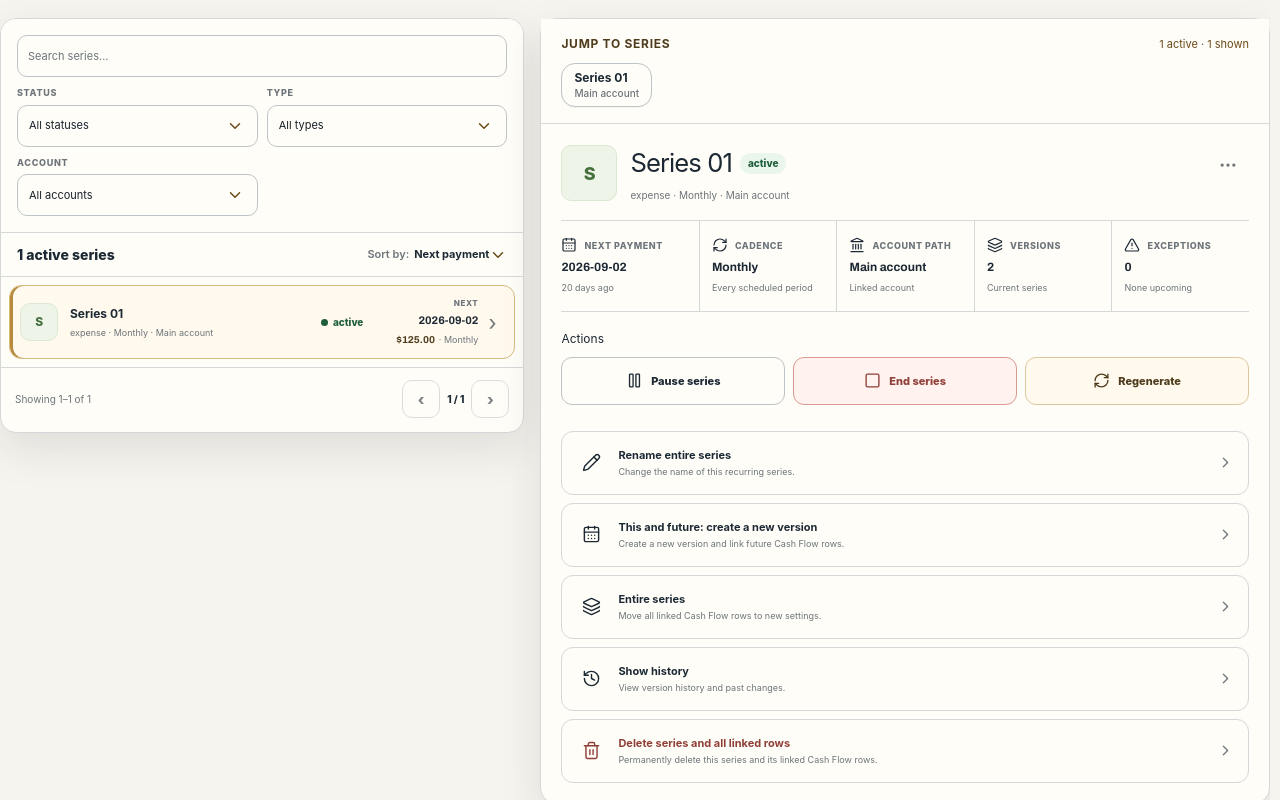
RecurringCashFlowManager derived and keyed state › closes a version-delete dialog and promotes the action result
Click the button with class "recurring-detail-option" that starts with "Show history" at x=654, y=671, box [561,647,1249,711]
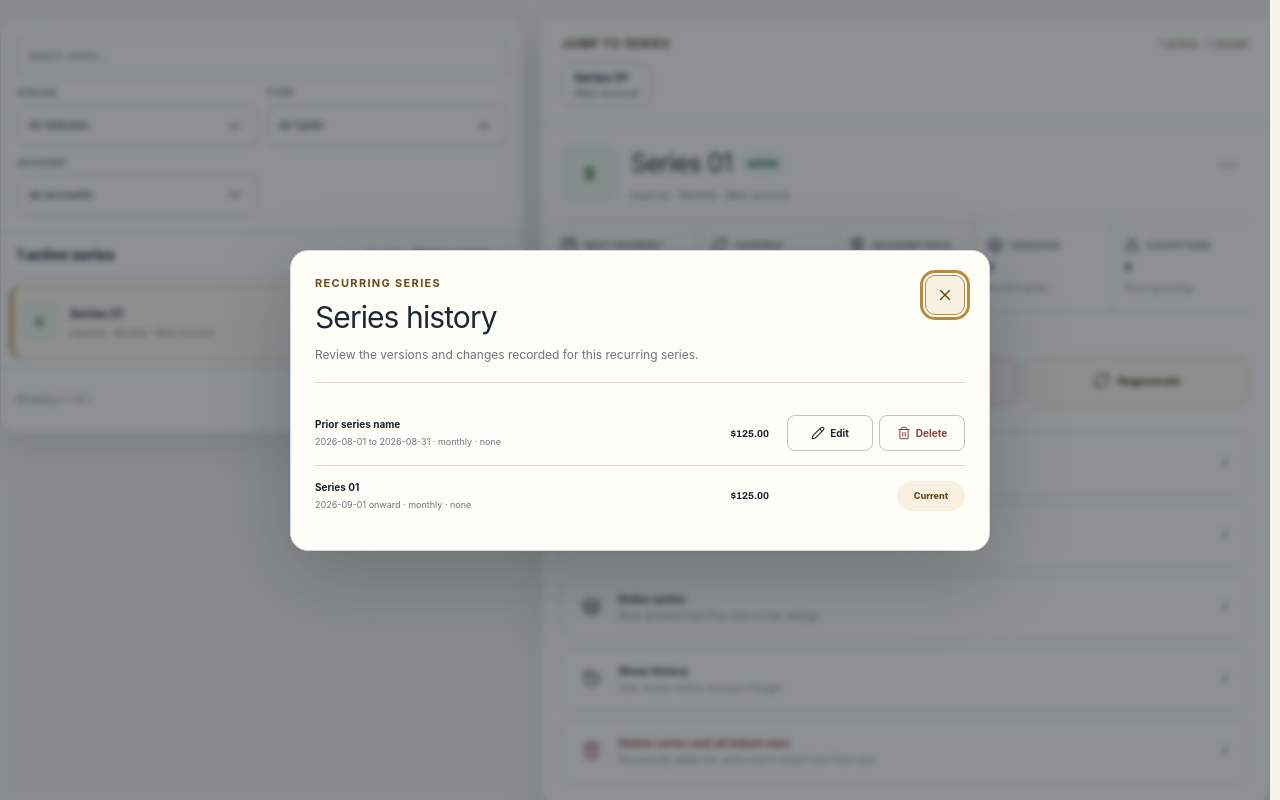
Click the button with class "is-danger" showing "Delete" at x=922, y=433, box [879,415,965,451]
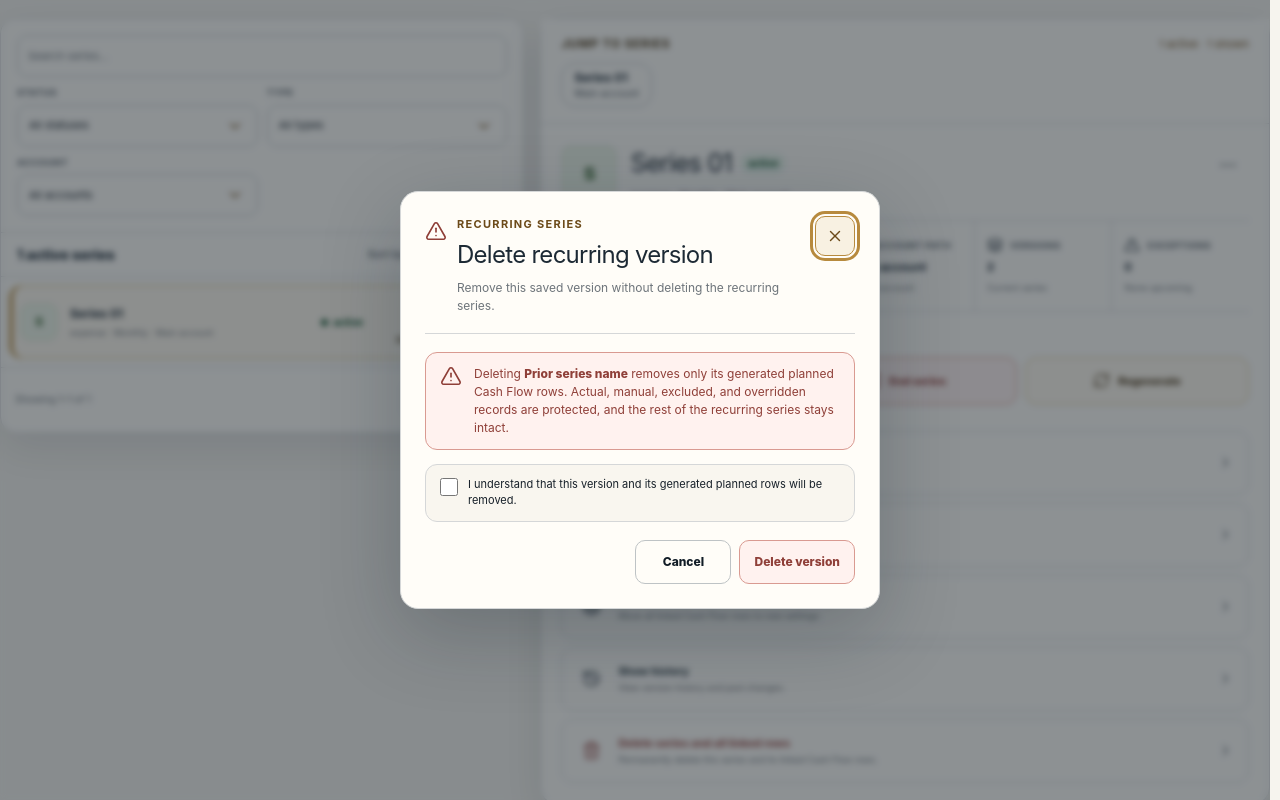
Check: the dialog is shown, box [400,191,880,609]
Click the checkbox named "confirm" at x=449, y=487, box [440,478,458,496]
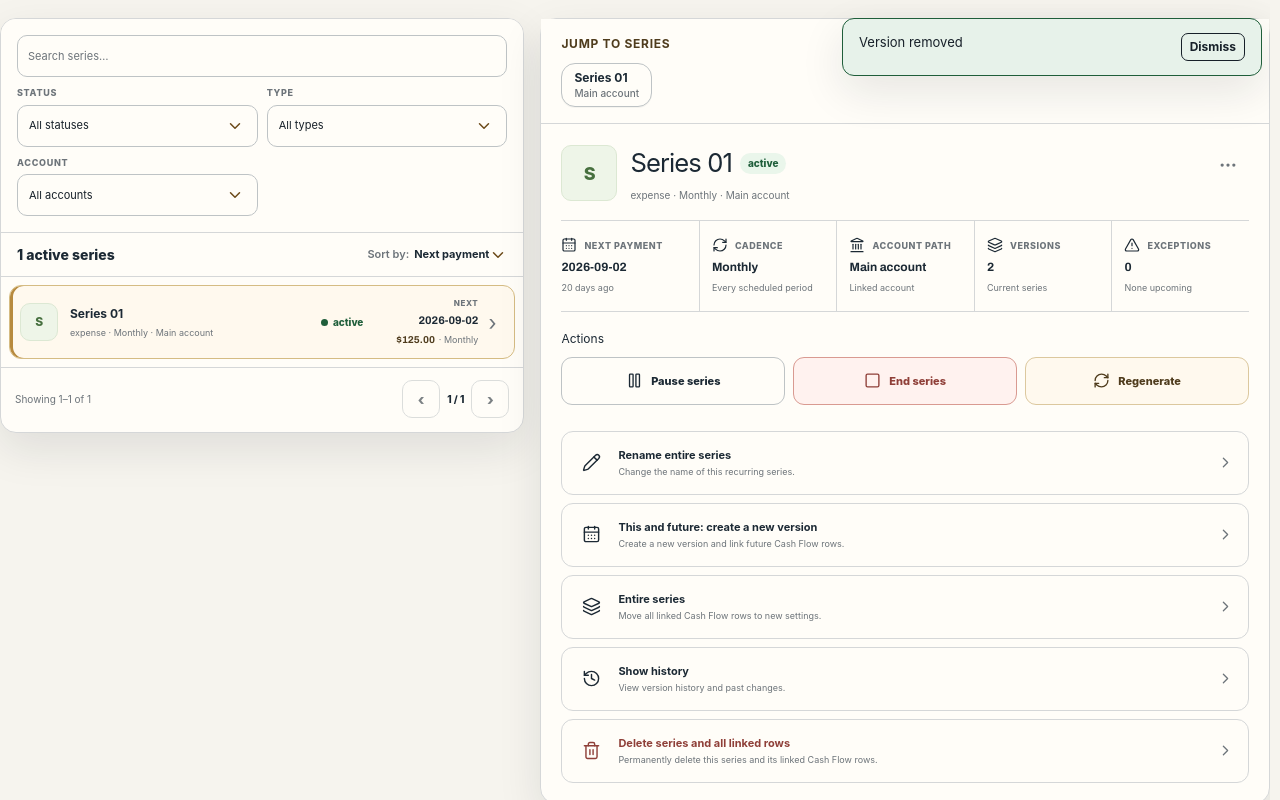
Check: the button is gone
Check: the text "Version removed" is shown, box [859,34,963,50]
